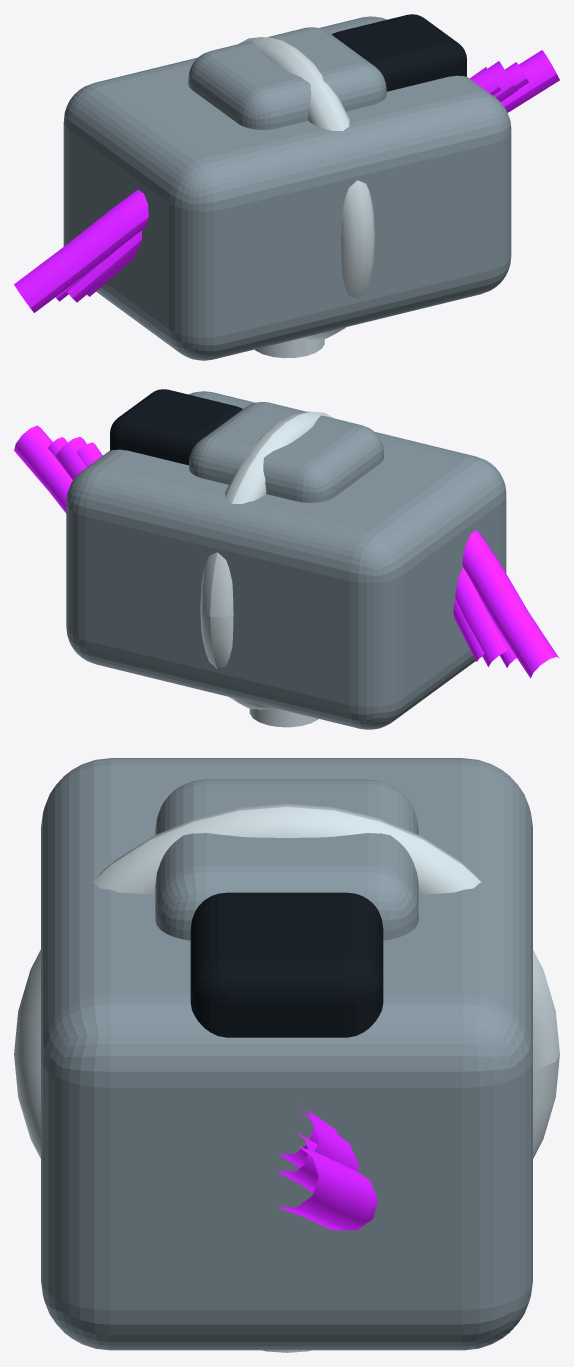
Rendered from electrical_22.glb.
3 renders of one model, top to bottom at view 1: azimuth 30°, elevation 25°; view 2: azimuth 150°, elevation 25°; view 3: azimuth 270°, elevation 25°, orthographic. The views are drawn at different scales.
Visible parts, largest first — view 1: asset_mesh__electrical_1124__reference_body, asset_mesh__electrical_1132__sensor_body, asset_mesh__electrical_1115__current_path, asset_mesh__electrical_1123__functional_ring, asset_mesh__electrical_1132__connector, asset_mesh__electrical_1139__current_path, asset_mesh__electrical_1132__sensor_probe, asset_mesh__electrical_1129__current_path, asset_mesh__electrical_1140__current_path; view 2: asset_mesh__electrical_1124__reference_body, asset_mesh__electrical_1132__sensor_body, asset_mesh__electrical_1115__current_path, asset_mesh__electrical_1123__functional_ring, asset_mesh__electrical_1132__connector, asset_mesh__electrical_1139__current_path, asset_mesh__electrical_1129__current_path, asset_mesh__electrical_1132__sensor_probe, asset_mesh__electrical_1140__current_path; view 3: asset_mesh__electrical_1124__reference_body, asset_mesh__electrical_1132__connector, asset_mesh__electrical_1132__sensor_body, asset_mesh__electrical_1123__functional_ring, asset_mesh__electrical_1115__current_path, asset_mesh__electrical_1139__current_path, asset_mesh__electrical_1140__current_path.
Boxes of the visible parts, left/top/right/bottom form: asset_mesh__electrical_1124__reference_body: left=63, top=16, right=511, bottom=360; asset_mesh__electrical_1132__sensor_body: left=188, top=27, right=386, bottom=129; asset_mesh__electrical_1115__current_path: left=14, top=50, right=559, bottom=312; asset_mesh__electrical_1123__functional_ring: left=238, top=37, right=374, bottom=339; asset_mesh__electrical_1132__connector: left=332, top=14, right=466, bottom=91; asset_mesh__electrical_1139__current_path: left=67, top=61, right=517, bottom=302; asset_mesh__electrical_1132__sensor_probe: left=254, top=338, right=324, bottom=357; asset_mesh__electrical_1129__current_path: left=87, top=67, right=500, bottom=296; asset_mesh__electrical_1140__current_path: left=55, top=62, right=528, bottom=301; asset_mesh__electrical_1124__reference_body: left=66, top=391, right=506, bottom=729; asset_mesh__electrical_1132__sensor_body: left=189, top=402, right=383, bottom=502; asset_mesh__electrical_1115__current_path: left=14, top=425, right=559, bottom=678; asset_mesh__electrical_1123__functional_ring: left=200, top=411, right=334, bottom=709; asset_mesh__electrical_1132__connector: left=110, top=389, right=242, bottom=465; asset_mesh__electrical_1139__current_path: left=55, top=436, right=507, bottom=666; asset_mesh__electrical_1129__current_path: left=76, top=442, right=484, bottom=661; asset_mesh__electrical_1132__sensor_probe: left=249, top=708, right=318, bottom=727; asset_mesh__electrical_1140__current_path: left=48, top=437, right=516, bottom=667; asset_mesh__electrical_1124__reference_body: left=41, top=758, right=532, bottom=1350; asset_mesh__electrical_1132__connector: left=190, top=892, right=383, bottom=1037; asset_mesh__electrical_1132__sensor_body: left=155, top=779, right=418, bottom=940; asset_mesh__electrical_1123__functional_ring: left=14, top=803, right=559, bottom=1158; asset_mesh__electrical_1115__current_path: left=277, top=1146, right=377, bottom=1230; asset_mesh__electrical_1139__current_path: left=277, top=1110, right=358, bottom=1192; asset_mesh__electrical_1140__current_path: left=280, top=1132, right=318, bottom=1191.
Size of the model in its own units: 1.73 by 0.8977 by 0.8573.
